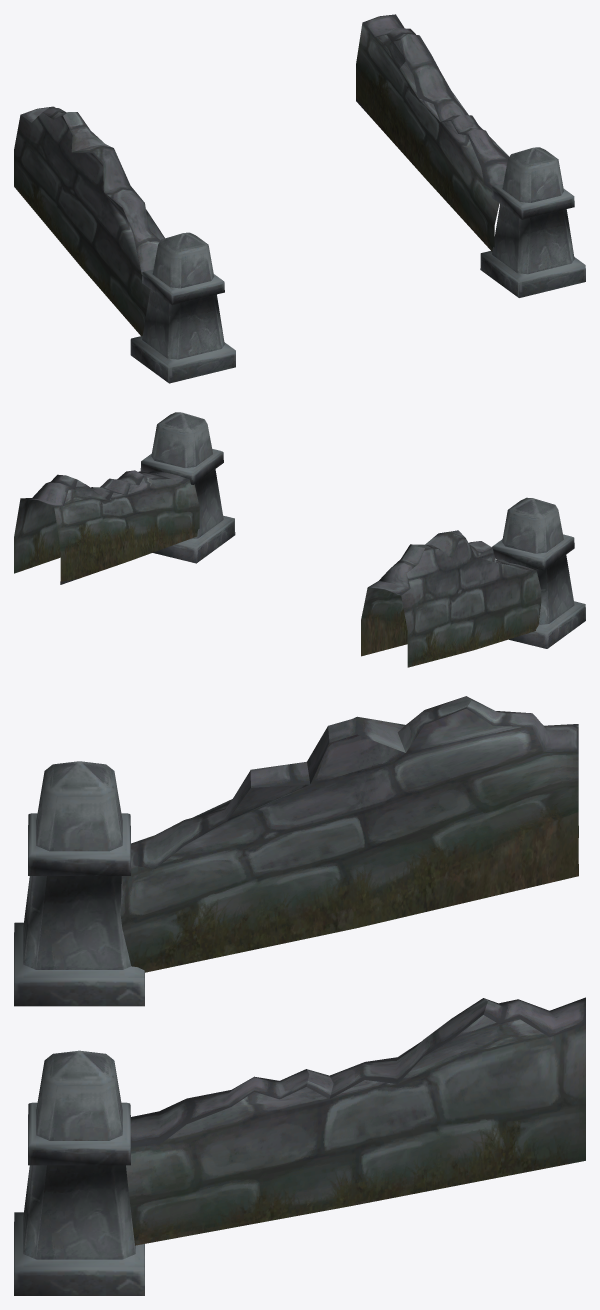
File: object_stonewalls04.fbx
The picture shows the model from 3 angles, top to bottom: view 1: azimuth 30°, elevation 25°; view 2: azimuth 150°, elevation 25°; view 3: azimuth 270°, elevation 25°; orthographic projection. The views are drawn at different scales.
Parts seen in each view (by area): view 1: object_stonewalls04-0; view 2: object_stonewalls04-0; view 3: object_stonewalls04-0.
Part boxes in pixels (bbox=[...]): object_stonewalls04-0: bbox=[14, 14, 585, 383]; object_stonewalls04-0: bbox=[14, 412, 585, 667]; object_stonewalls04-0: bbox=[14, 696, 585, 1295].
Bounding box in the file's own units: 7.48 × 2.82 × 5.24.
